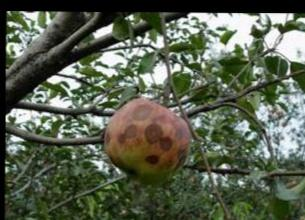rotten apple: (103, 93, 196, 181)
